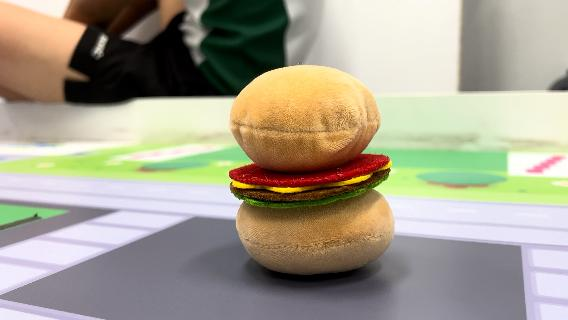burger: (224, 61, 400, 277)
